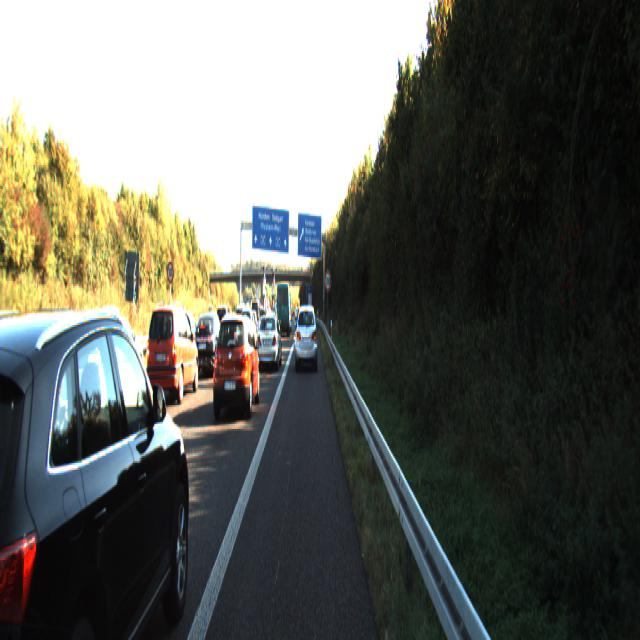Car: (0, 304, 195, 639), (0, 328, 78, 552), (0, 317, 87, 446), (144, 301, 199, 407), (211, 312, 260, 421), (89, 313, 144, 398), (192, 310, 228, 378), (256, 312, 282, 372), (295, 302, 317, 370), (275, 279, 290, 335), (240, 307, 258, 348)
